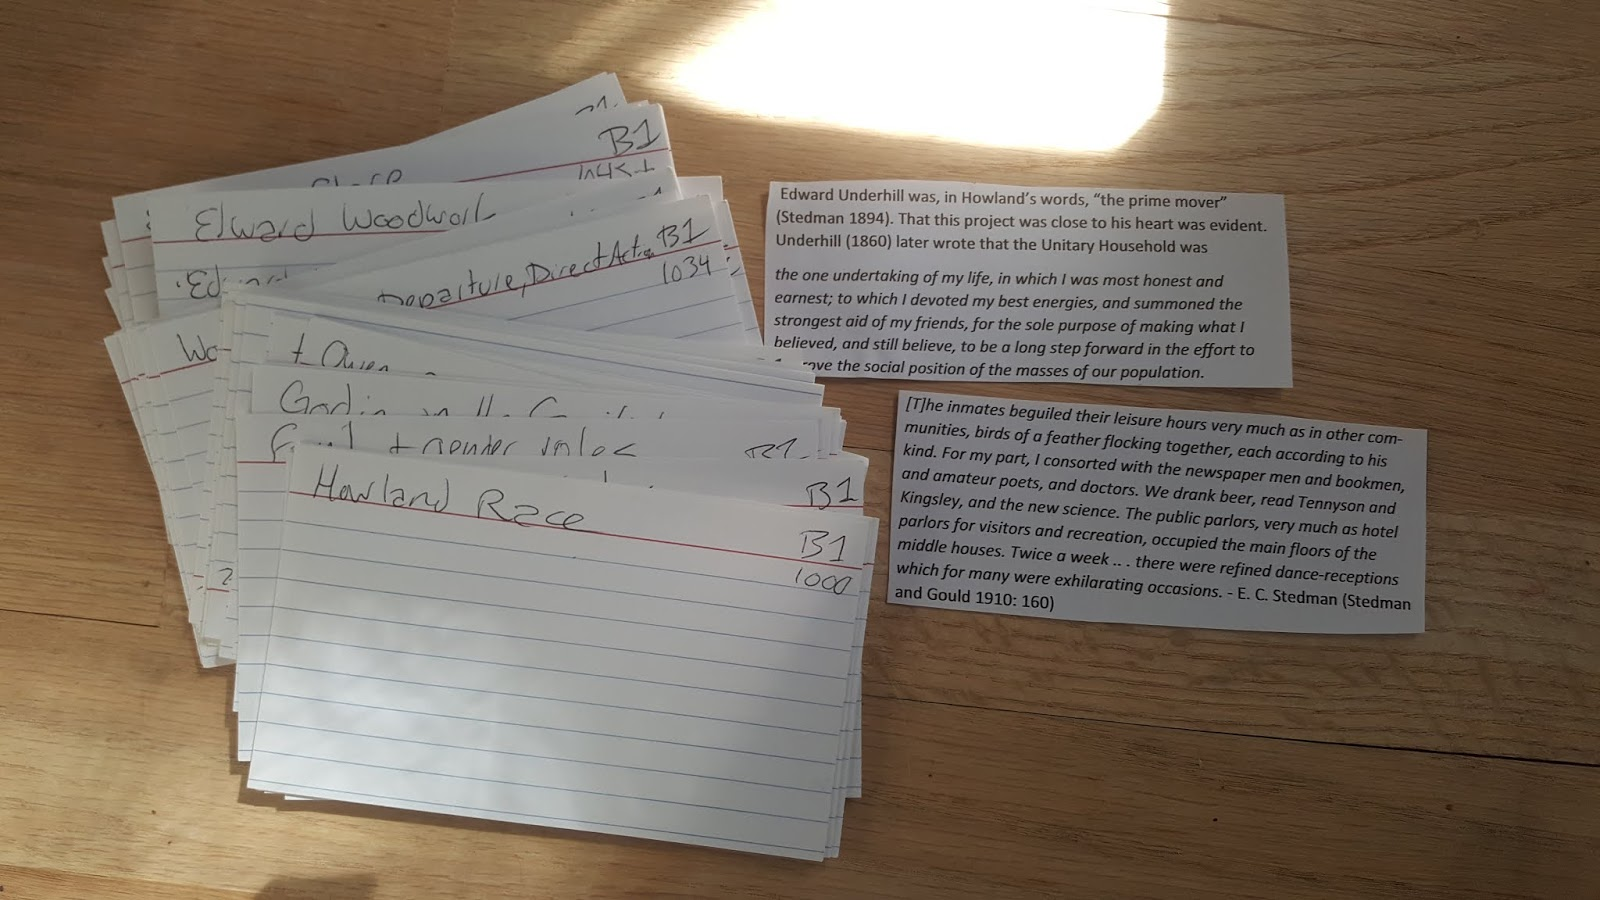Note: (889, 389, 1431, 637), (763, 177, 1295, 387)
